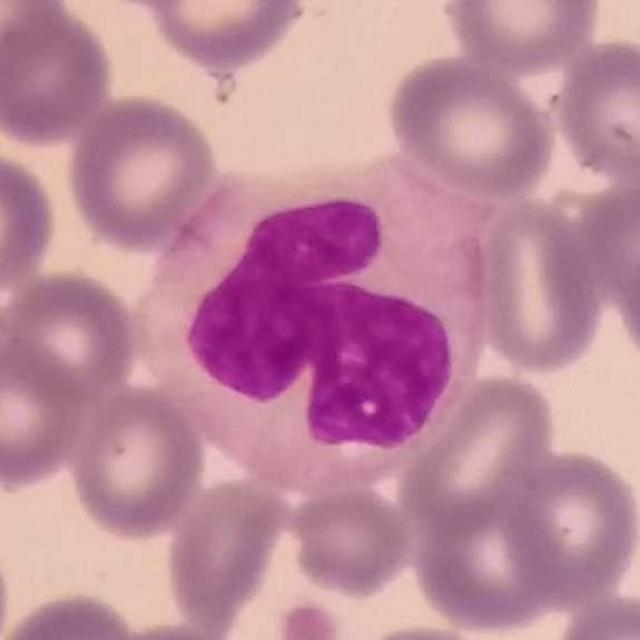Monocyte: (129, 152, 503, 496)
Platelets: (266, 598, 340, 640)
RBC: (394, 370, 562, 536), (382, 52, 561, 200), (62, 89, 222, 254), (470, 197, 608, 377), (407, 491, 570, 637), (496, 443, 640, 607), (66, 381, 209, 543), (161, 472, 293, 633), (0, 266, 145, 407), (0, 1, 118, 148), (286, 482, 417, 600), (0, 330, 90, 493), (551, 34, 640, 187), (439, 0, 605, 73), (139, 0, 311, 70), (581, 174, 640, 366), (0, 145, 61, 298), (0, 586, 144, 640), (0, 0, 68, 80), (552, 589, 640, 640), (98, 620, 243, 640), (348, 621, 500, 640), (0, 527, 14, 640)
